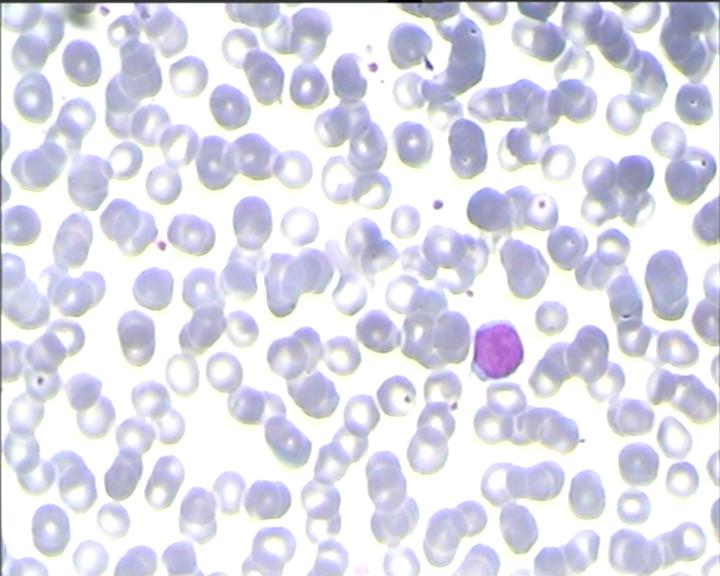lymp: (466, 318, 526, 386)
